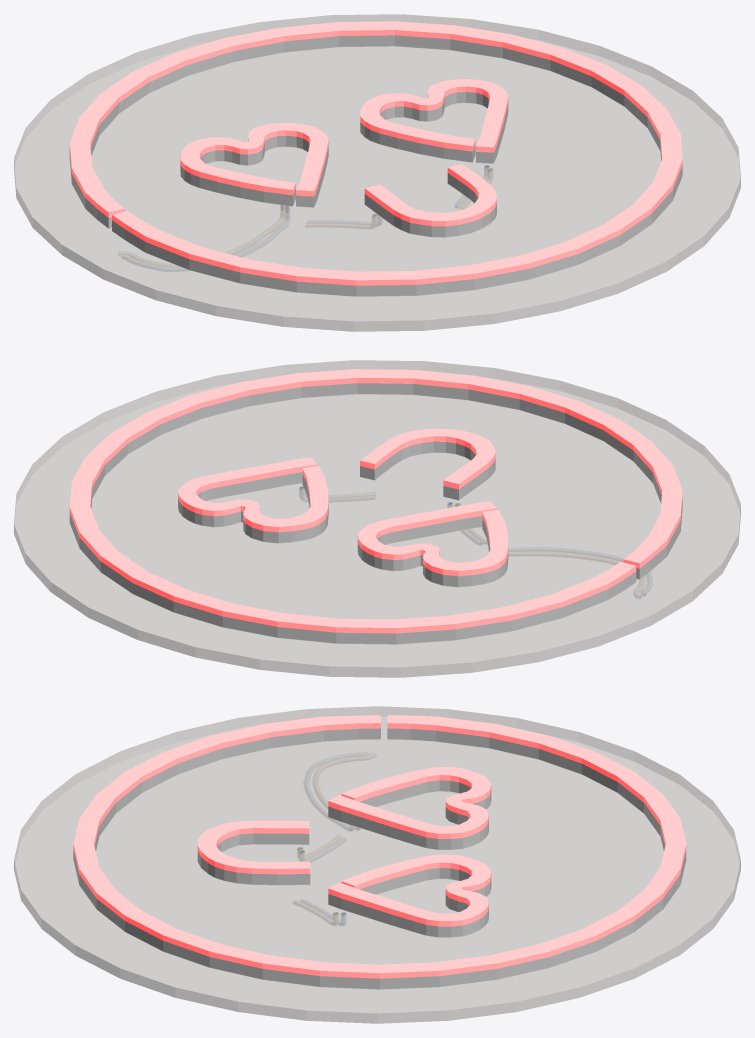
File: hearty.glb
3 renders of one model, top to bottom at view 1: azimuth 30°, elevation 25°; view 2: azimuth 150°, elevation 25°; view 3: azimuth 270°, elevation 25°, orthographic.
Visible parts, largest first — view 1: Circle.016, Plane.045, Circle.013, Circle.012; view 2: Circle.016, Plane.045, Circle.012, Circle.013; view 3: Circle.016, Plane.045, Circle.012, Circle.013.
Part boxes in pixels (x1=…): Circle.016: x1=14, y1=14, x2=740, y2=331; Plane.045: x1=69, y1=21, x2=682, y2=296; Circle.013: x1=118, y1=168, x2=492, y2=266; Circle.012: x1=121, y1=165, x2=489, y2=271; Circle.016: x1=14, y1=360, x2=740, y2=677; Plane.045: x1=69, y1=369, x2=682, y2=644; Circle.012: x1=299, y1=486, x2=652, y2=596; Circle.013: x1=305, y1=492, x2=644, y2=599; Circle.016: x1=14, y1=706, x2=740, y2=1023; Plane.045: x1=73, y1=715, x2=686, y2=989; Circle.012: x1=299, y1=752, x2=368, y2=925; Circle.013: x1=293, y1=752, x2=376, y2=925.
Bounding box in the file's own units: 1.18 × 0.0711 × 1.18.
